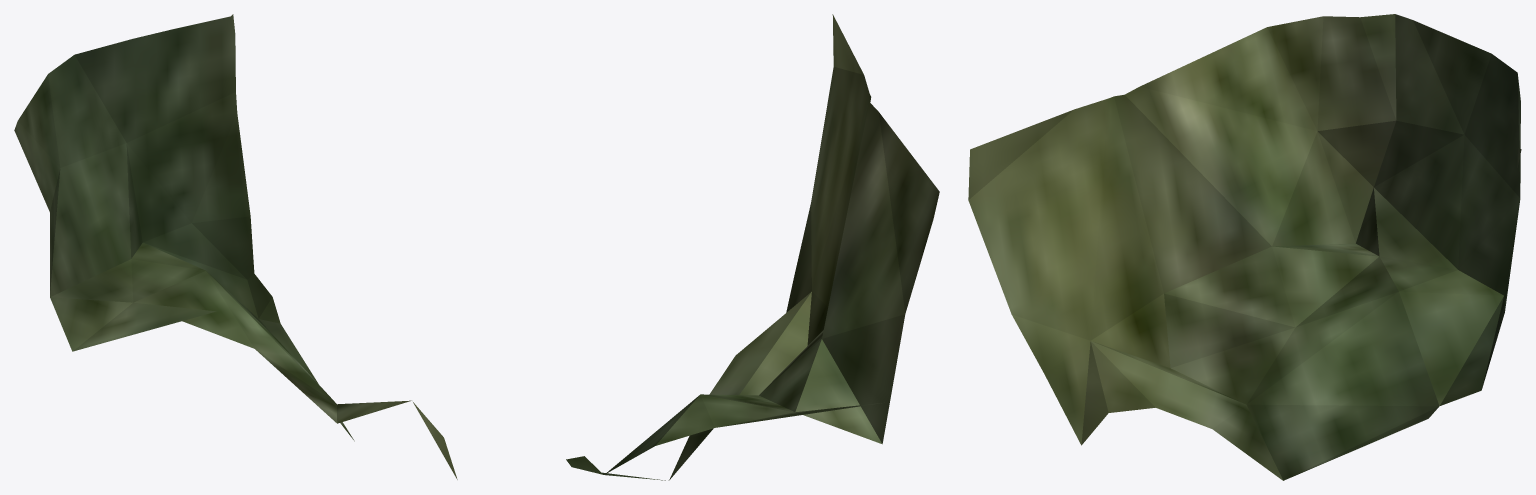
3 views of the same model, side by side, from view 1: azimuth 30°, elevation 25°; view 2: azimuth 150°, elevation 25°; view 3: azimuth 270°, elevation 25° (orthographic). The views are drawn at different scales.
Bounding box in the file's own units: 1.2 × 1.37 × 2.07.
Materials: 1 (1 with a texture image).
